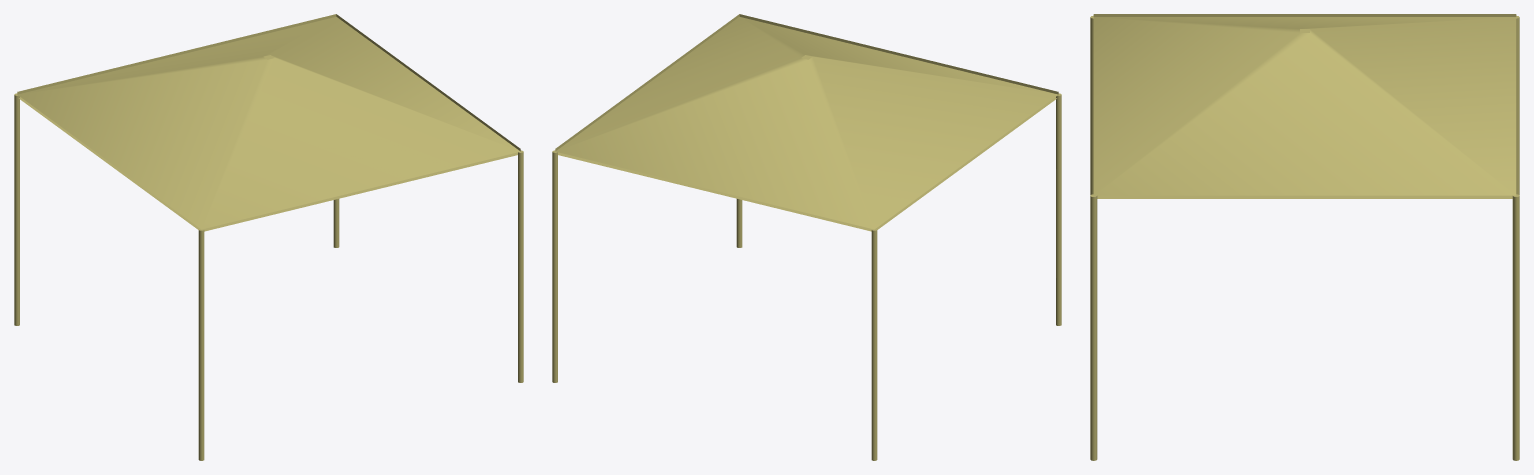
File: tent_foh_10x10.glb
The picture shows the model from 3 angles, left to right: view 1: azimuth 30°, elevation 25°; view 2: azimuth 150°, elevation 25°; view 3: azimuth 270°, elevation 25°; orthographic projection. The views are drawn at different scales.
Visible parts, largest first — view 1: tent_foh_10x10; view 2: tent_foh_10x10; view 3: tent_foh_10x10.
Part boxes in pixels (left/top/right/bottom): tent_foh_10x10: left=14, top=14, right=523, bottom=460; tent_foh_10x10: left=552, top=14, right=1061, bottom=460; tent_foh_10x10: left=1090, top=14, right=1519, bottom=460.
Size of what is drawn, in the model's own units: 3.1 by 2.7 by 3.1.
